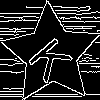K: (26, 29, 82, 85)
